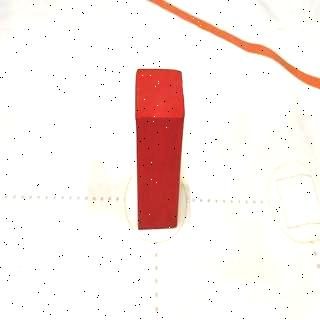redbox: (135, 66, 185, 233)
